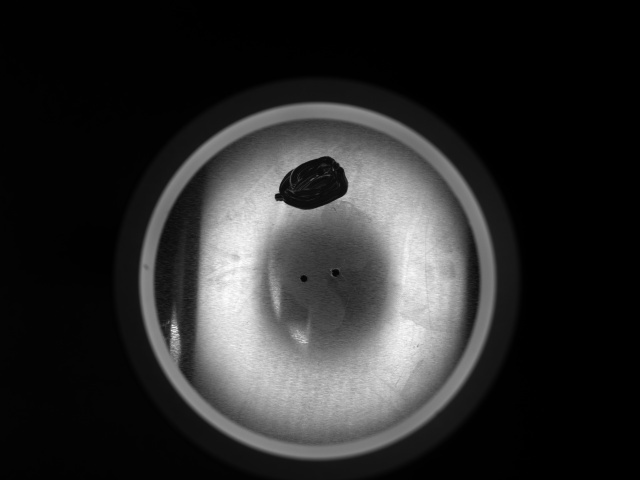zang_wu: (273, 155, 350, 210)
zhen_kong: (328, 264, 343, 278), (296, 270, 309, 284)
